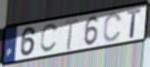6: (20, 26, 37, 58), (84, 15, 100, 46)
C: (102, 11, 123, 43), (39, 22, 59, 55)
T: (64, 17, 79, 52), (127, 7, 143, 39)
